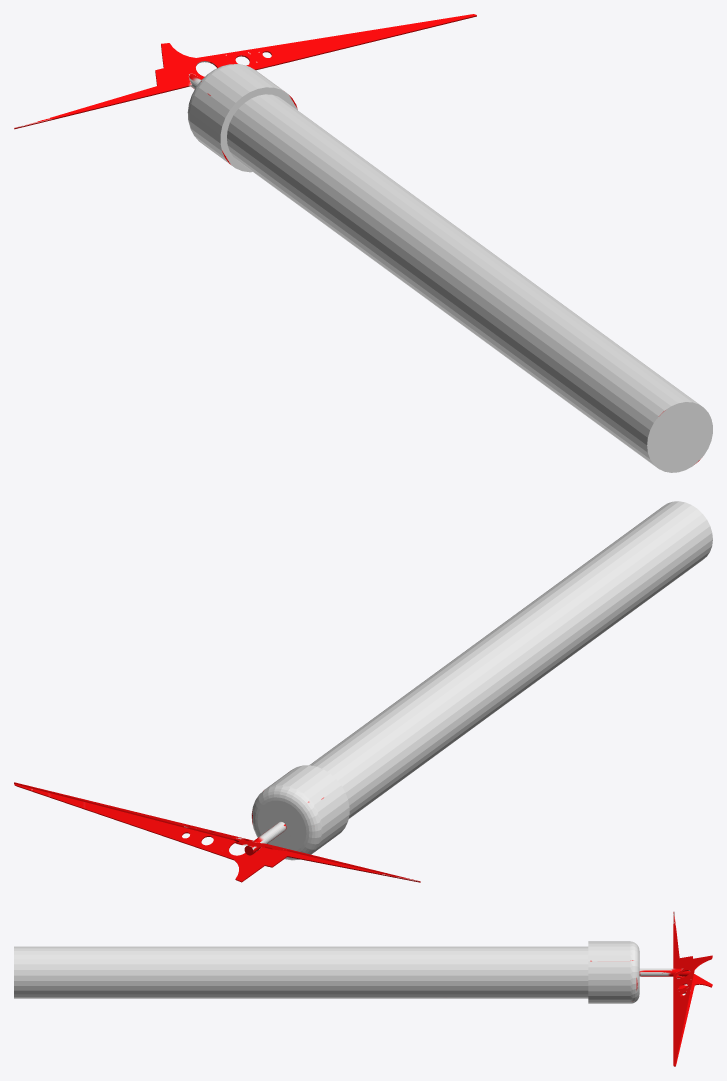
Rendered from windvane.dae.
3 views of the same model, one above another, from view 1: azimuth 30°, elevation 25°; view 2: azimuth 150°, elevation 25°; view 3: azimuth 270°, elevation 25° (orthographic). The views are drawn at different scales.
Visible parts, largest first — view 1: windvane_v1; view 2: windvane_v1; view 3: windvane_v1.
Part boxes in pixels (<box>): windvane_v1: <box>14,14,712,472</box>; windvane_v1: <box>14,501,712,882</box>; windvane_v1: <box>14,911,712,1066</box>.
Bounding box in the file's own units: 0.3556 × 0.6812 × 0.0607.
1 material, 1 textured.
